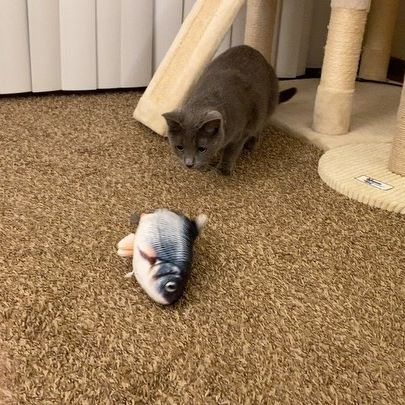cat: (159, 104, 238, 183)
